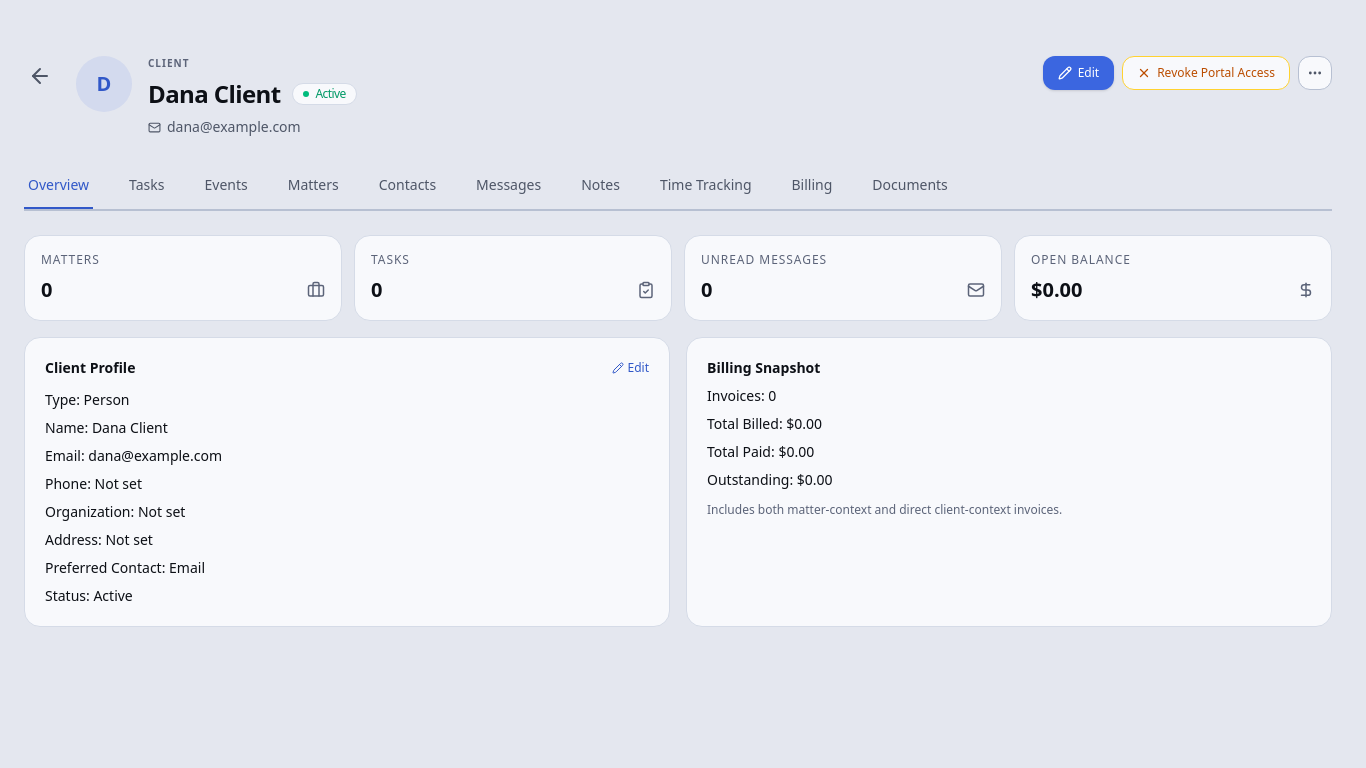
Test: portal invitation › keeps portal access and names the refusal when revoking fails
The image size is (1366, 768).
expect the heading "Dana Client Active" is shown: met, box top-left (148, 77), bottom-right (357, 110)
Click the button "Revoke Portal Access" at (1206, 73), box top-left (1122, 56), bottom-right (1290, 90)
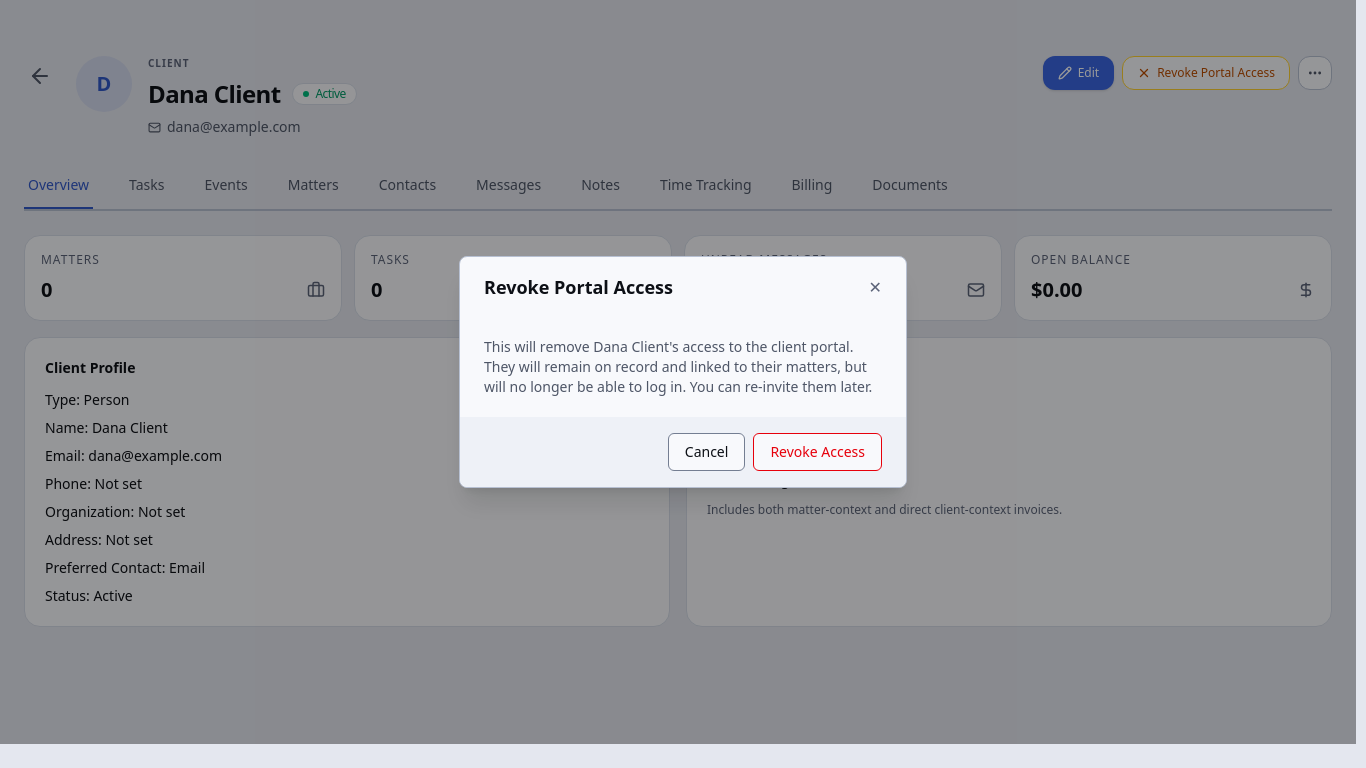
Click the button "Revoke Access" at (818, 452), box top-left (753, 433), bottom-right (882, 471)
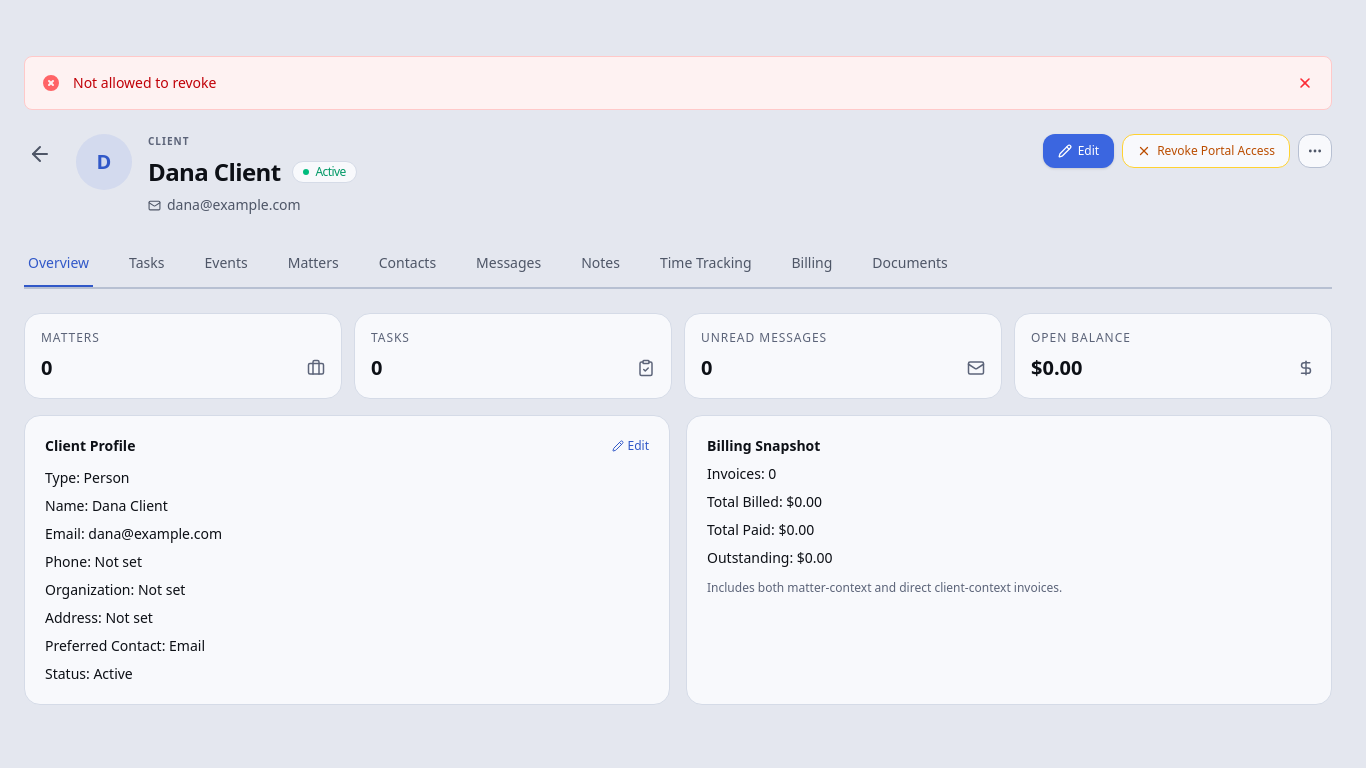
expect the button "Revoke Portal Access" is shown: met, box top-left (1122, 134), bottom-right (1290, 168)
expect the text "Not allowed to revoke" is shown: met, box top-left (73, 73), bottom-right (216, 92)
